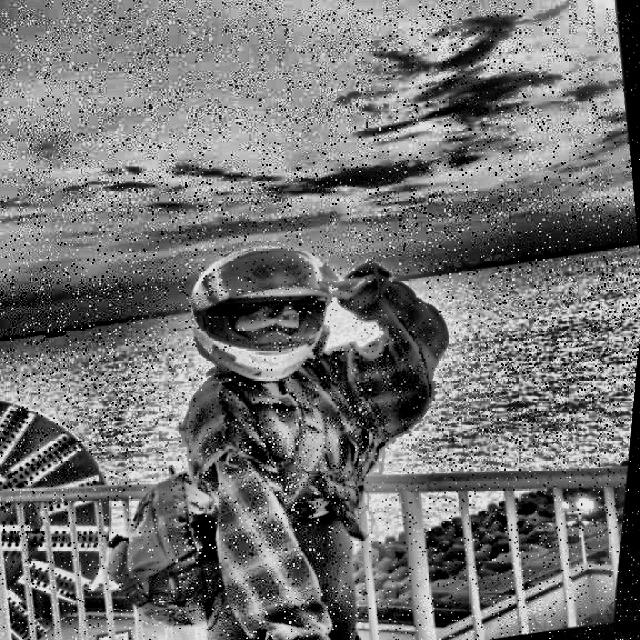Helmet: (175, 229, 364, 408)
